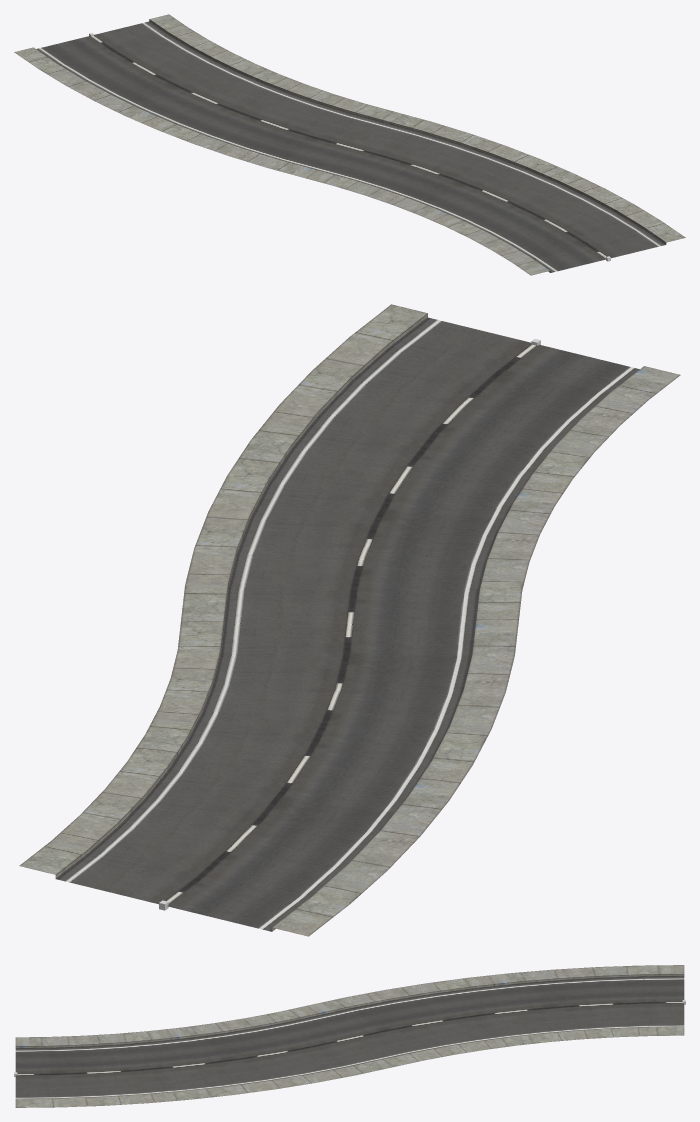
Rendered from roadShift.left2.fbx.
3 views of the same model, one above another, from view 1: azimuth 30°, elevation 25°; view 2: azimuth 150°, elevation 25°; view 3: azimuth 270°, elevation 25° (orthographic). The views are drawn at different scales.
Parts seen in each view (by area): view 1: MESH roadShift.left2; view 2: MESH roadShift.left2; view 3: MESH roadShift.left2.
Boxes of the visible parts, x1,y1,x2,y2 form: MESH roadShift.left2: (14,14,685,275); MESH roadShift.left2: (19,304,680,936); MESH roadShift.left2: (15,965,684,1107).
Size of what is drawn, in the model's own units: 4856 by 58.34 by 9650.
